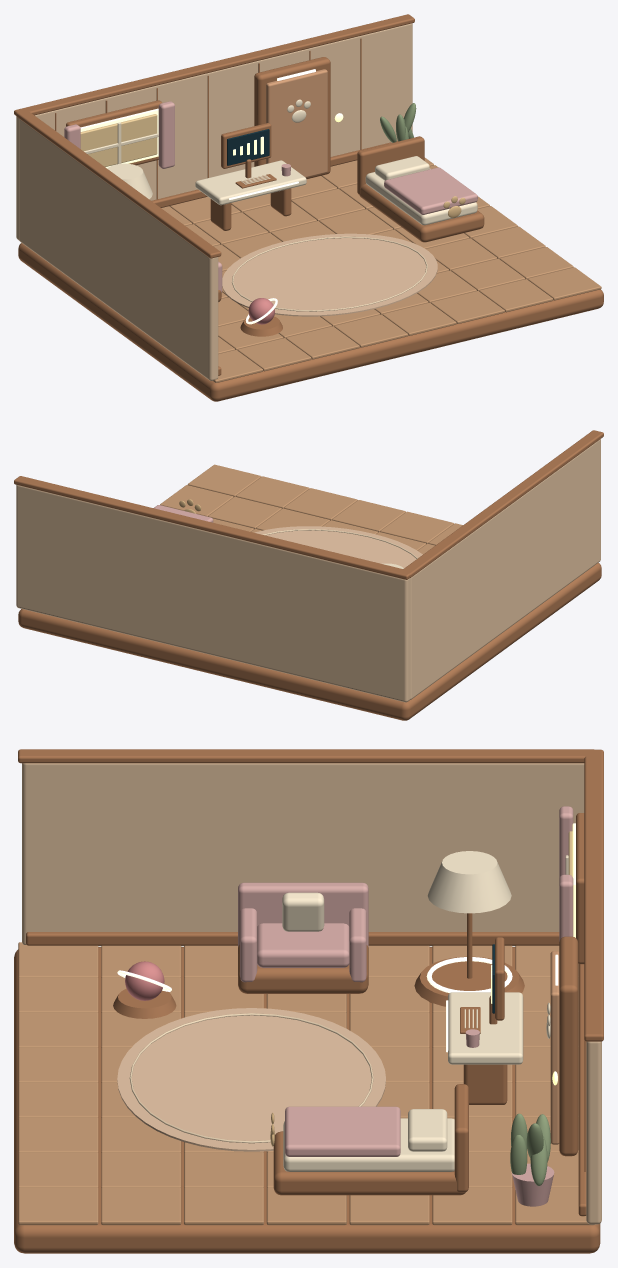
File: home.glb
3 views of the same model, one above another, from view 1: azimuth 30°, elevation 25°; view 2: azimuth 150°, elevation 25°; view 3: azimuth 270°, elevation 25° (orthographic). The views are drawn at different scales.
Visible parts, largest first — view 1: Static_Cozy_Cat_Home (×2), FloorTiles, CentralRug, Static_Prop_bed (×2), DoorPanel, Static_Prop_console (×2), Blanket, WindowGlass, Static_Window (×2), DoorFrame, MonitorDisplay, WindowFrame (+5 smaller); view 2: Static_Cozy_Cat_Home (×2), FloorTiles, CentralRug; view 3: Static_Cozy_Cat_Home (×2), FloorTiles, CentralRug, Static_Prop_bed (×2), Static_Prop_sofa, Static_Prop_console (×2), Blanket, DoorFrame, LampShade, SofaBase, Static_Prop_charger, DoorPanel (+8 smaller).
Part boxes in pixels (left/top/right/bottom): Static_Cozy_Cat_Home (×2): left=14, top=14, right=603, bottom=401; FloorTiles: left=161, top=157, right=601, bottom=382; CentralRug: left=222, top=233, right=437, bottom=316; Static_Prop_bed (×2): left=357, top=136, right=484, bottom=242; DoorPanel: left=266, top=69, right=327, bottom=177; Static_Prop_console (×2): left=195, top=123, right=306, bottom=230; Blanket: left=384, top=167, right=477, bottom=214; WindowGlass: left=80, top=114, right=157, bottom=166; Static_Window (×2): left=64, top=101, right=174, bottom=168; DoorFrame: left=254, top=57, right=330, bottom=178; MonitorDisplay: left=227, top=129, right=269, bottom=165; WindowFrame: left=66, top=100, right=162, bottom=165; Static_Cozy_Cat_Home (×2): left=14, top=430, right=603, bottom=720; FloorTiles: left=160, top=464, right=462, bottom=554; CentralRug: left=254, top=526, right=422, bottom=568; Static_Cozy_Cat_Home (×2): left=14, top=749, right=603, bottom=1253; FloorTiles: left=18, top=942, right=594, bottom=1225; CentralRug: left=117, top=1008, right=385, bottom=1151; Static_Prop_bed (×2): left=273, top=1084, right=468, bottom=1195; Static_Prop_sofa: left=238, top=882, right=368, bottom=982; Static_Prop_console (×2): left=448, top=937, right=523, bottom=1104; Blanket: left=285, top=1106, right=400, bottom=1156; DoorFrame: left=559, top=936, right=578, bottom=1156; LampShade: left=427, top=851, right=511, bottom=913; SofaBase: left=238, top=945, right=368, bottom=993; Static_Prop_charger: left=414, top=913, right=524, bottom=1006; DoorPanel: left=550, top=951, right=559, bottom=1144.
Size of the model in its own units: 8.56 by 3.1 by 7.44.
